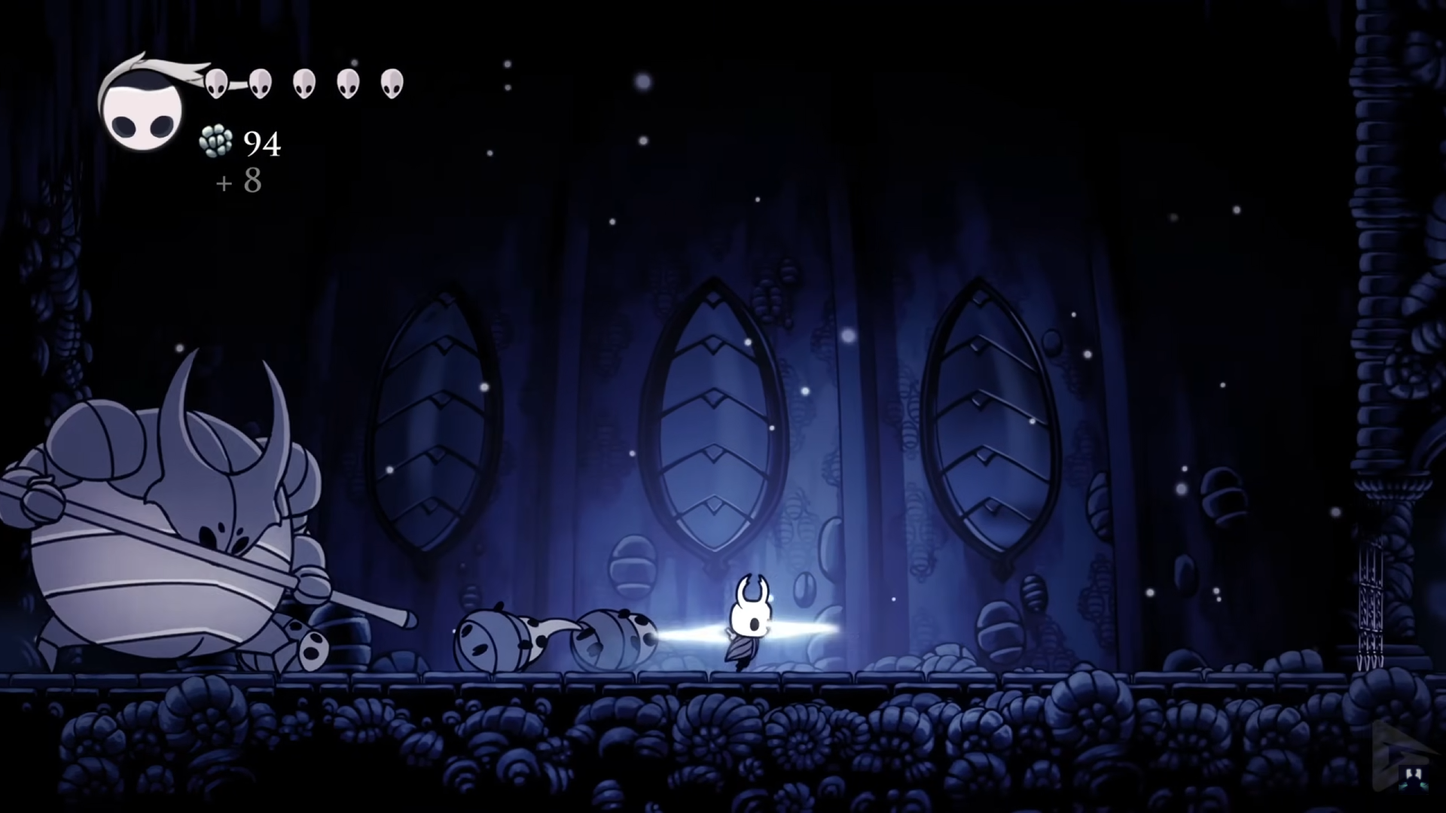HK: (719, 568, 776, 676)
